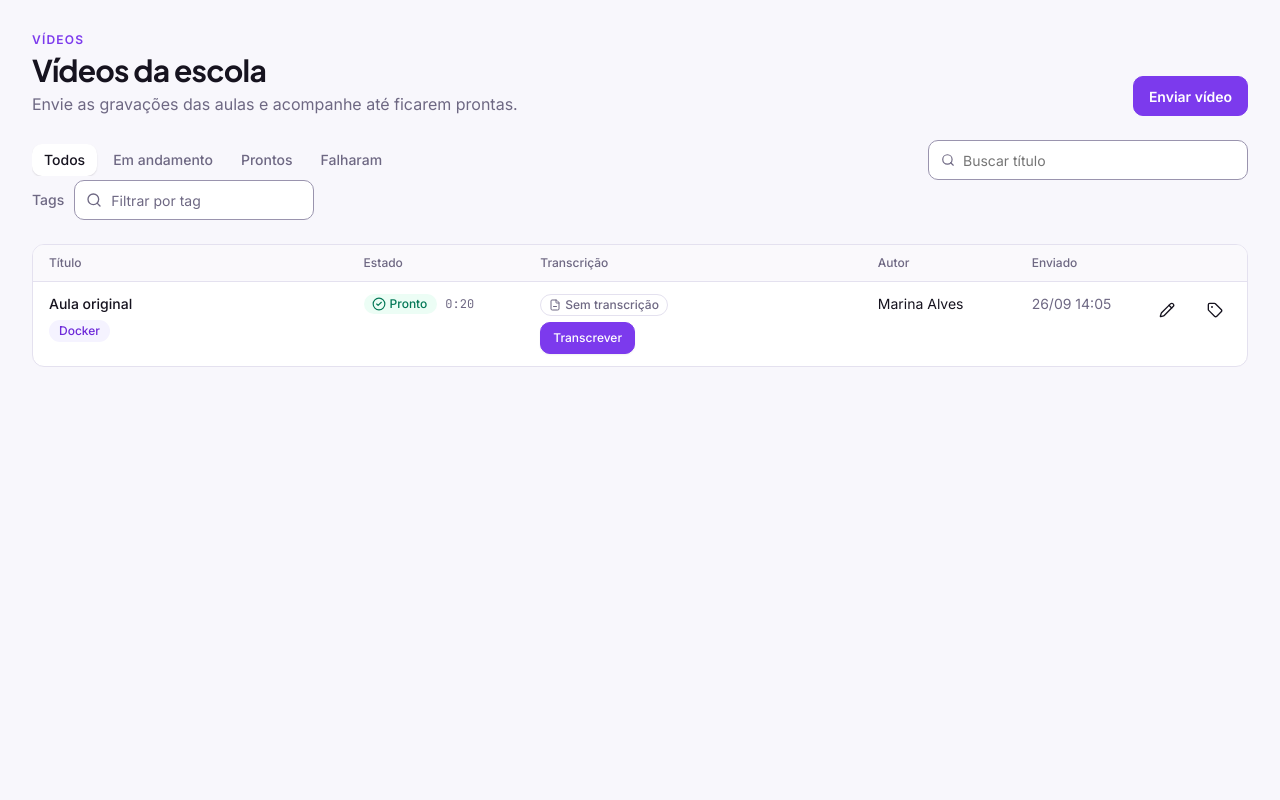
Test: video-tags-edit › allows removing every tag and persists the empty set
What coordinates should you click on to do the following:
click the button named "Editar tags de Aula original"
I would click on:
 (1215, 310)
Its box is top-left (1199, 294), bottom-right (1231, 326).
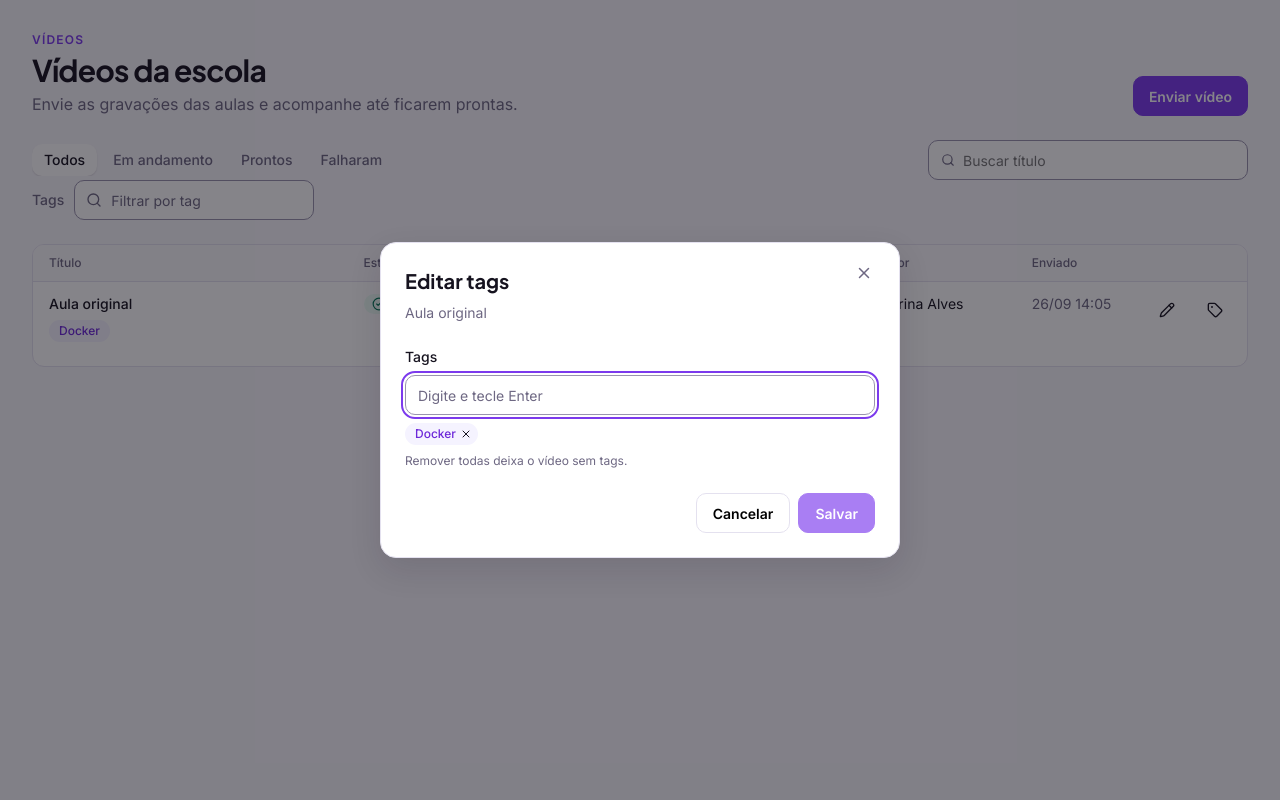
What coordinates should you click on to do the following:
click the button named "Remover tag Docker"
I would click on:
 (466, 434)
Its box is top-left (460, 428), bottom-right (472, 440).
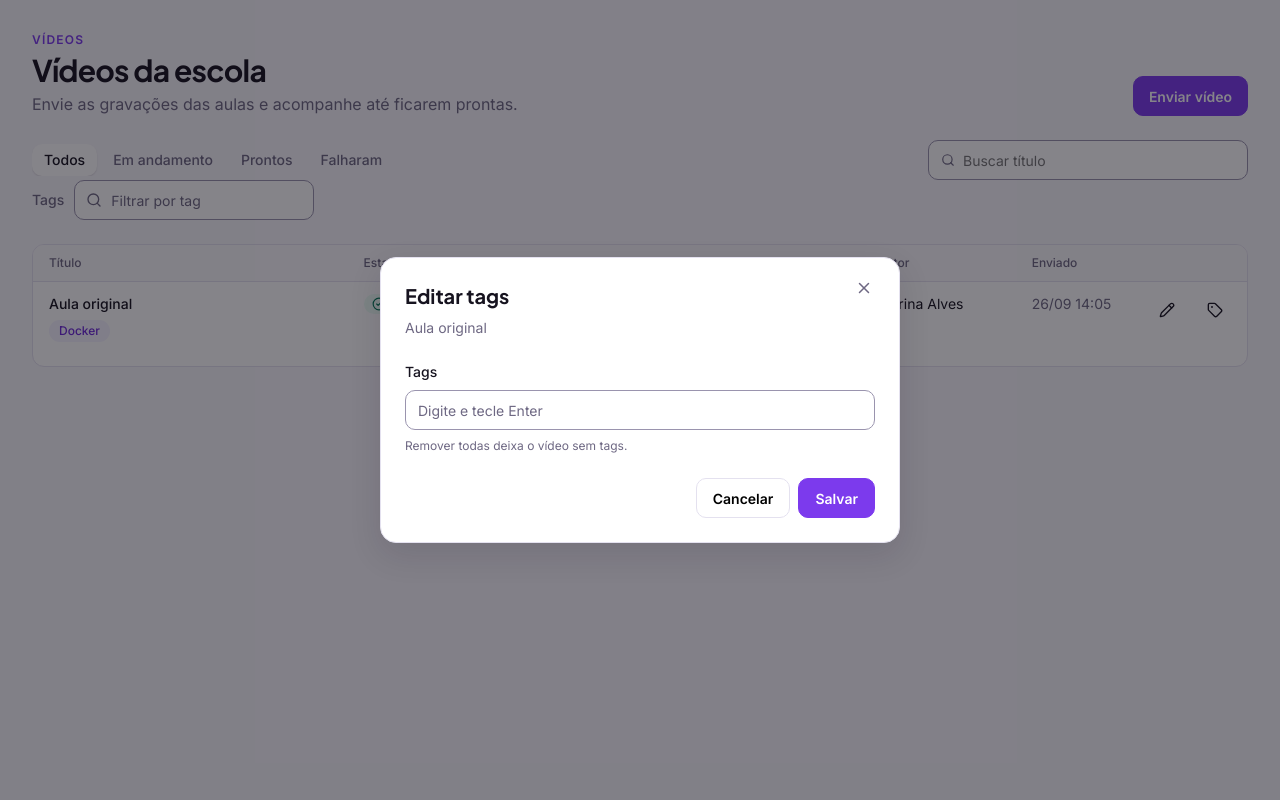
What coordinates should you click on to do the following:
click the button "Salvar"
I would click on:
 (837, 498)
Its box is top-left (798, 478), bottom-right (875, 518).
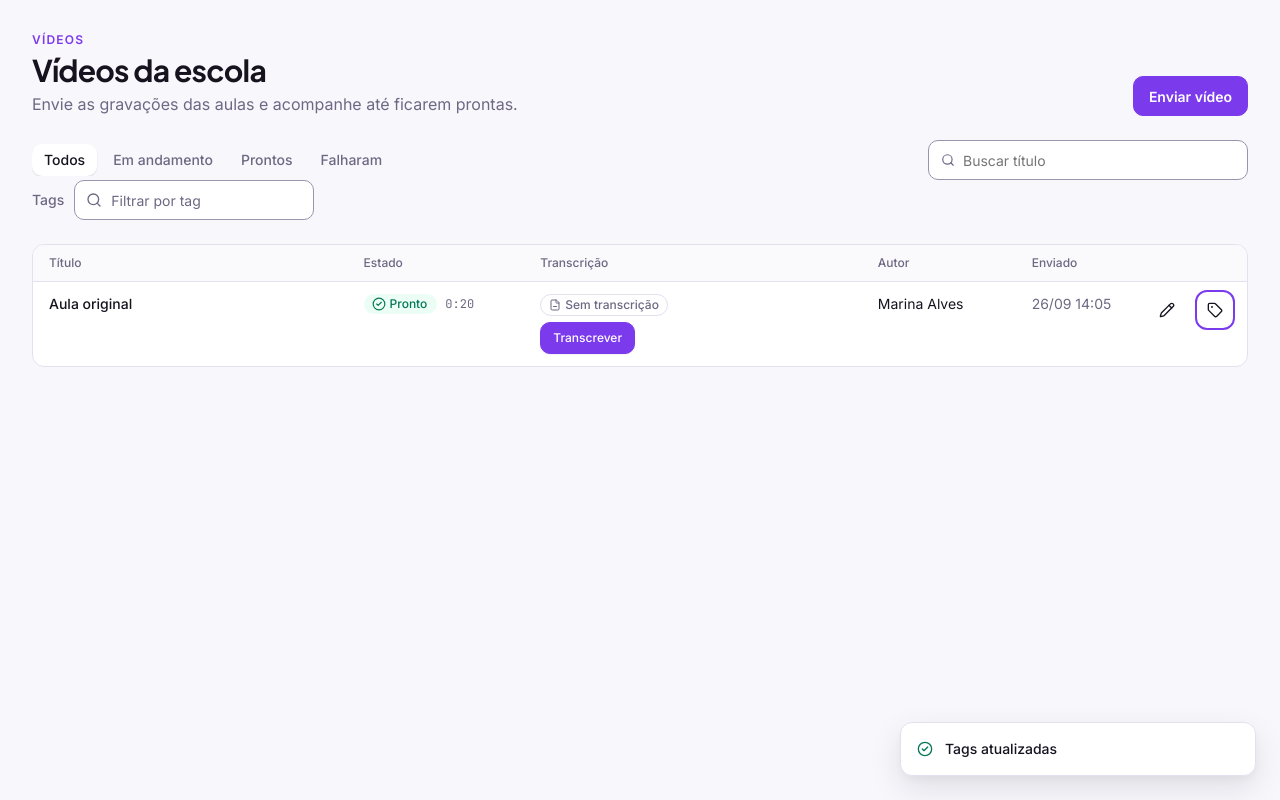
expect the text "Tags atualizadas" is shown: met, box top-left (900, 722), bottom-right (1256, 776)
expect the text "Docker" is gone: met
